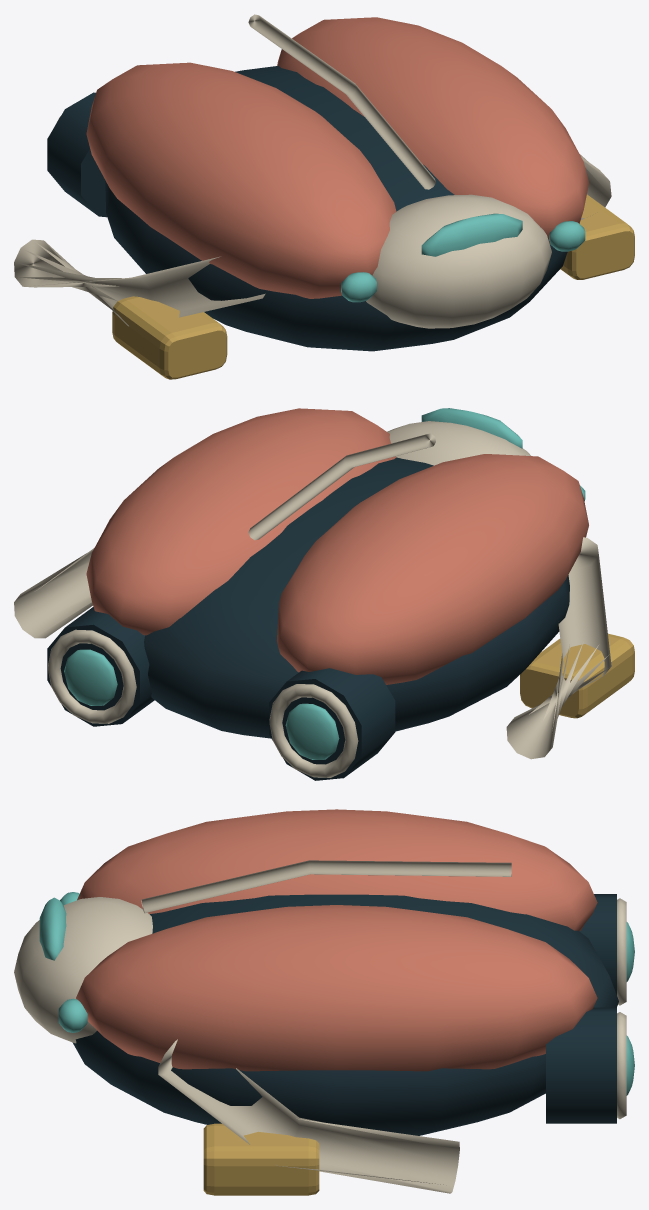
File: alien-beetle-lod1.glb
3 views of the same model, one above another, from view 1: azimuth 30°, elevation 25°; view 2: azimuth 150°, elevation 25°; view 3: azimuth 270°, elevation 25° (orthographic). The views are drawn at different scales.
Visible parts, largest first — view 1: shell, emission; view 2: shell, emission; view 3: shell, emission.
Boxes of the visible parts, x1,y1,x2,y2 form: shell: (14, 14, 634, 379); emission: (341, 213, 585, 302); shell: (14, 408, 634, 780); emission: (64, 408, 585, 759); shell: (14, 809, 626, 1195); emission: (39, 892, 634, 1095).
Size of the model in its own units: 2.43 by 1.02 by 2.31.
